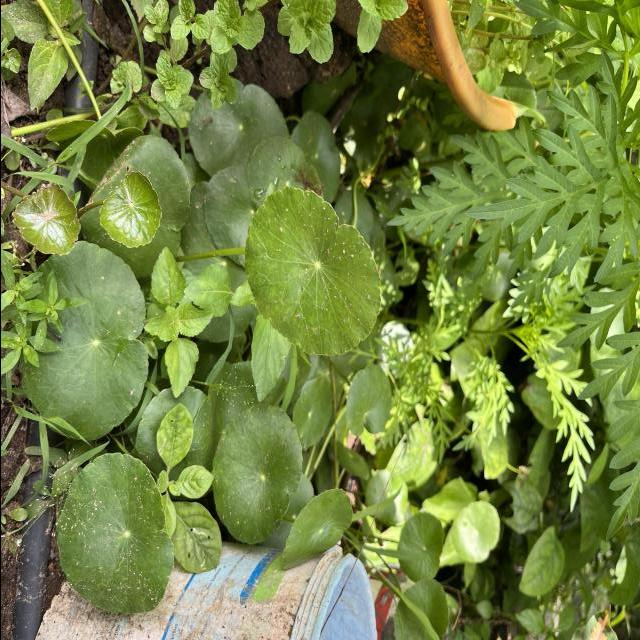Bacopa monnieri: (240, 184, 383, 359), (53, 448, 177, 618), (208, 398, 306, 550), (279, 484, 356, 574), (6, 178, 84, 258), (96, 166, 164, 252)
